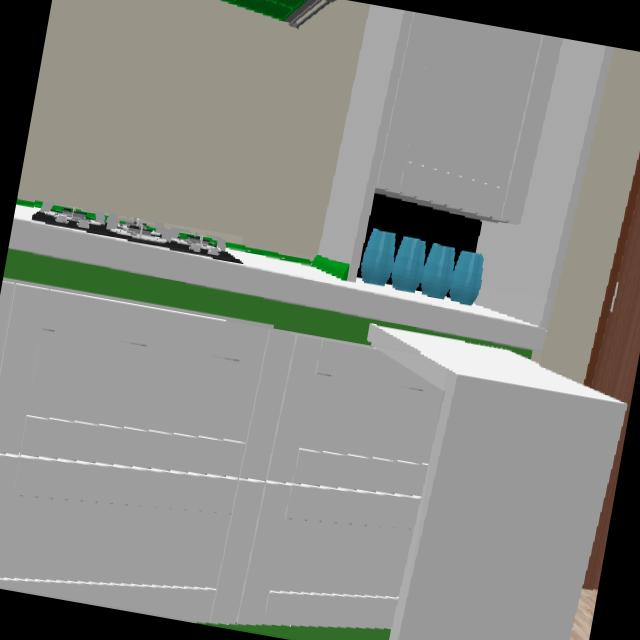cabinet: (0, 282, 442, 628)
countertop: (3, 206, 544, 358)
stove: (31, 202, 236, 262)
